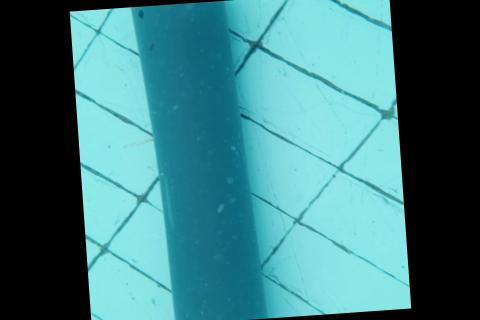kebocoran: (135, 7, 145, 19)
